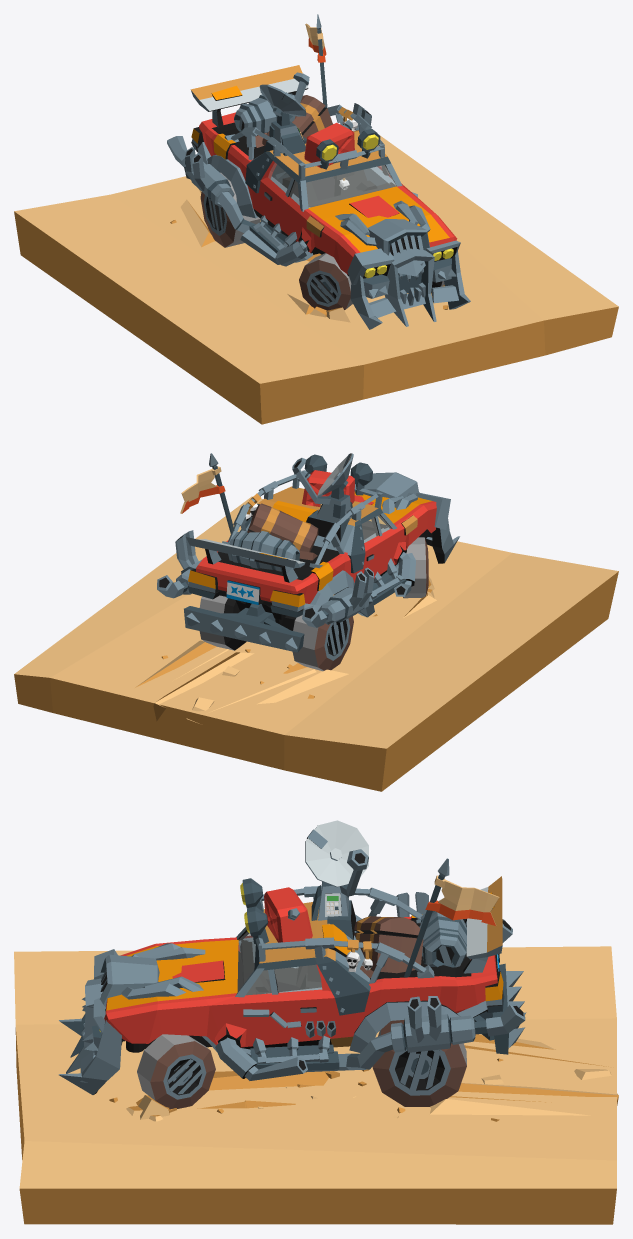
3 views of the same model, one above another, from view 1: azimuth 30°, elevation 25°; view 2: azimuth 150°, elevation 25°; view 3: azimuth 270°, elevation 25° (orthographic). The views are drawn at different scales.
Parts seen in each view (by area): view 1: group478977601, group209116886, group377548882, group1644948134, group1740004949, group1645430239, group1410390311, group2120335766, group1382686687, group419697253, group723724044, group2131204993 (+7 smaller); view 2: group478977601, group209116886, group970231681, group1382686687, group1740004949, group1644948134, group1725151293, group723724044, group1645430239, group707405803, group1838268374, group377548882 (+19 smaller); view 3: group478977601, group209116886, group1838268374, group102458130, group951975016, group377548882, group1644948134, group637238646, group707405803, group1725151293, group723724044, group1645430239 (+17 smaller).
Part boxes in pixels (bbox=[...]): group478977601: bbox=[14, 135, 618, 424]; group209116886: bbox=[199, 112, 457, 274]; group377548882: bbox=[347, 240, 470, 329]; group1644948134: bbox=[245, 130, 390, 193]; group1740004949: bbox=[167, 136, 313, 262]; group1645430239: bbox=[190, 65, 308, 127]; group1410390311: bbox=[299, 253, 352, 310]; group2120335766: bbox=[367, 219, 429, 255]; group1382686687: bbox=[200, 172, 260, 247]; group419697253: bbox=[304, 120, 354, 168]; group723724044: bbox=[234, 93, 295, 132]; group2131204993: bbox=[207, 155, 257, 218]; group478977601: bbox=[14, 496, 618, 791]; group209116886: bbox=[196, 492, 436, 603]; group970231681: bbox=[184, 603, 304, 652]; group1382686687: bbox=[292, 615, 353, 671]; group1740004949: bbox=[302, 562, 398, 627]; group1644948134: bbox=[240, 486, 382, 573]; group1725151293: bbox=[247, 503, 318, 552]; group723724044: bbox=[228, 530, 299, 571]; group1645430239: bbox=[186, 537, 305, 582]; group707405803: bbox=[180, 453, 234, 533]; group1838268374: bbox=[157, 530, 202, 598]; group377548882: bbox=[416, 492, 459, 563]; group478977601: bbox=[14, 946, 616, 1224]; group209116886: bbox=[104, 916, 497, 1049]; group1838268374: bbox=[241, 996, 525, 1072]; group102458130: bbox=[372, 1020, 466, 1106]; group951975016: bbox=[137, 1034, 215, 1109]; group377548882: bbox=[58, 949, 124, 1094]; group1644948134: bbox=[254, 902, 370, 1015]; group637238646: bbox=[305, 820, 368, 887]; group707405803: bbox=[404, 858, 499, 977]; group1725151293: bbox=[354, 916, 423, 973]; group723724044: bbox=[419, 911, 466, 967]; group1645430239: bbox=[463, 876, 502, 973].
Bounding box in the file's own units: 4.52 × 2.72 × 5.11.
